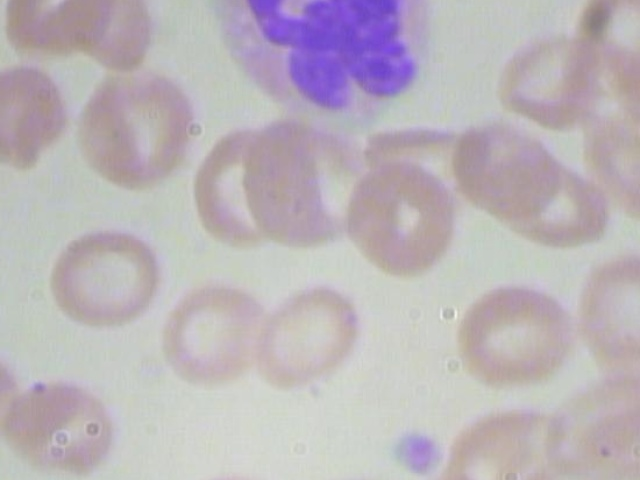Platelets: (391, 426, 444, 480)
RBC: (69, 63, 199, 204), (457, 271, 583, 390), (339, 163, 461, 284), (253, 273, 368, 399), (42, 222, 160, 333), (451, 117, 572, 221), (1, 377, 120, 480), (165, 277, 268, 388), (557, 249, 640, 386), (0, 0, 127, 63), (0, 61, 74, 168), (573, 0, 640, 77)
WBC: (197, 0, 443, 127)
